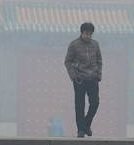person: (63, 21, 103, 138)
